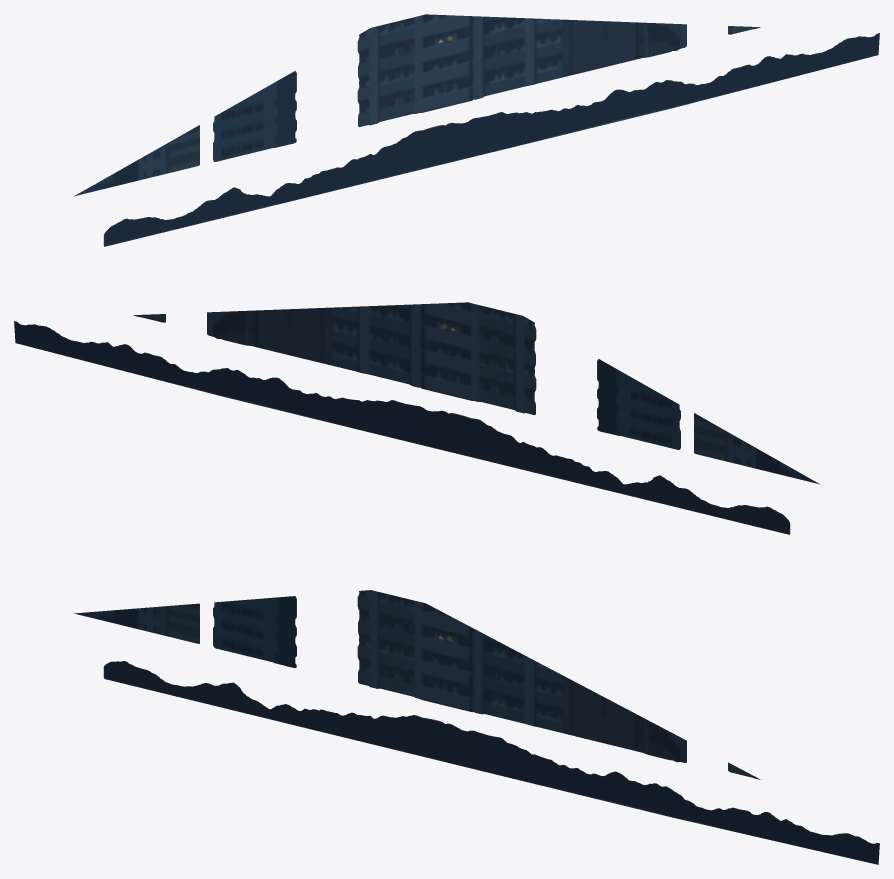
The model's file is HuBian_NightQiao_fbx.FBX.
3 renders of one model, top to bottom at view 1: azimuth 30°, elevation 25°; view 2: azimuth 150°, elevation 25°; view 3: azimuth 330°, elevation 25°, orthographic.
Parts seen in each view (by area): view 1: Object058; view 2: Object058; view 3: Object058.
Boxes of the visible parts, box(x1,y1,x2,y2) form: Object058: box(74, 14, 879, 246); Object058: box(14, 302, 819, 534); Object058: box(74, 590, 879, 864).
Size of the model in its own units: 9.85 by 2.27 by 5.11e-07.
1 material, 1 textured.
